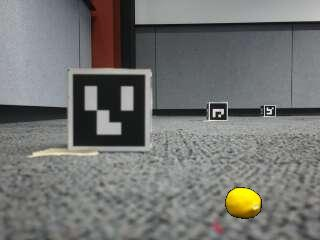lemon: (225, 189, 260, 219)
